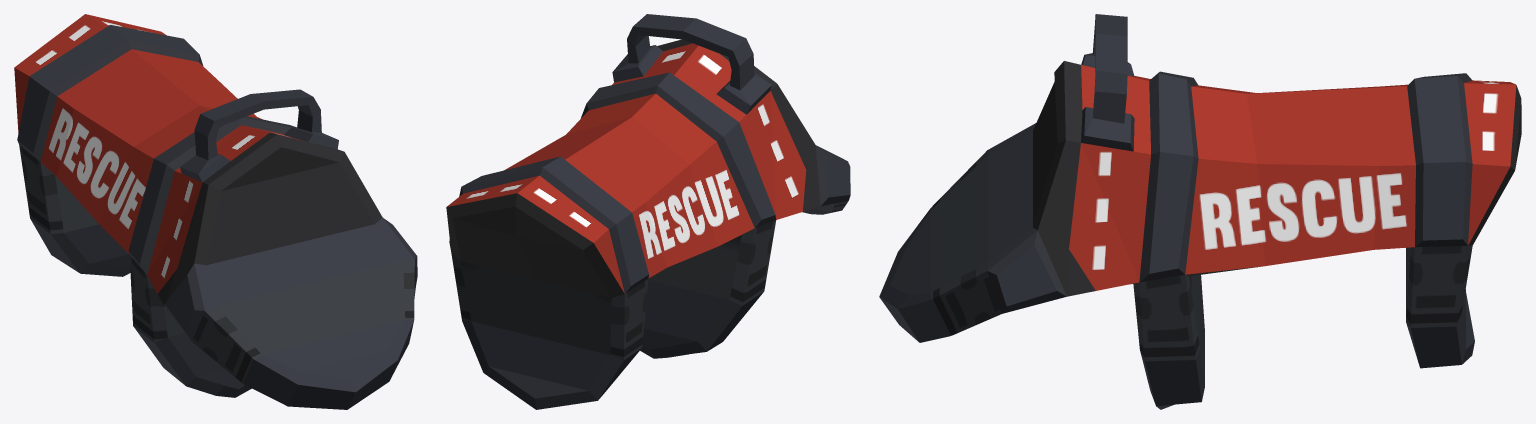
The model's file is SK_Chr_Attach_Vest_Rescue_GermanShepherd_01.fbx.
3 views of the same model, side by side, from view 1: azimuth 30°, elevation 25°; view 2: azimuth 150°, elevation 25°; view 3: azimuth 270°, elevation 25° (orthographic). The views are drawn at different scales.
Visible parts, largest first — view 1: SK_Chr_Attach_Vest_Rescue_GermanShepherd_01; view 2: SK_Chr_Attach_Vest_Rescue_GermanShepherd_01; view 3: SK_Chr_Attach_Vest_Rescue_GermanShepherd_01.
Boxes of the visible parts, x1,y1,x2,y2 form: SK_Chr_Attach_Vest_Rescue_GermanShepherd_01: [14, 14, 417, 409]; SK_Chr_Attach_Vest_Rescue_GermanShepherd_01: [446, 14, 850, 409]; SK_Chr_Attach_Vest_Rescue_GermanShepherd_01: [879, 14, 1521, 409].
Bounding box in the file's own units: 34.71 × 45.42 × 70.75.
